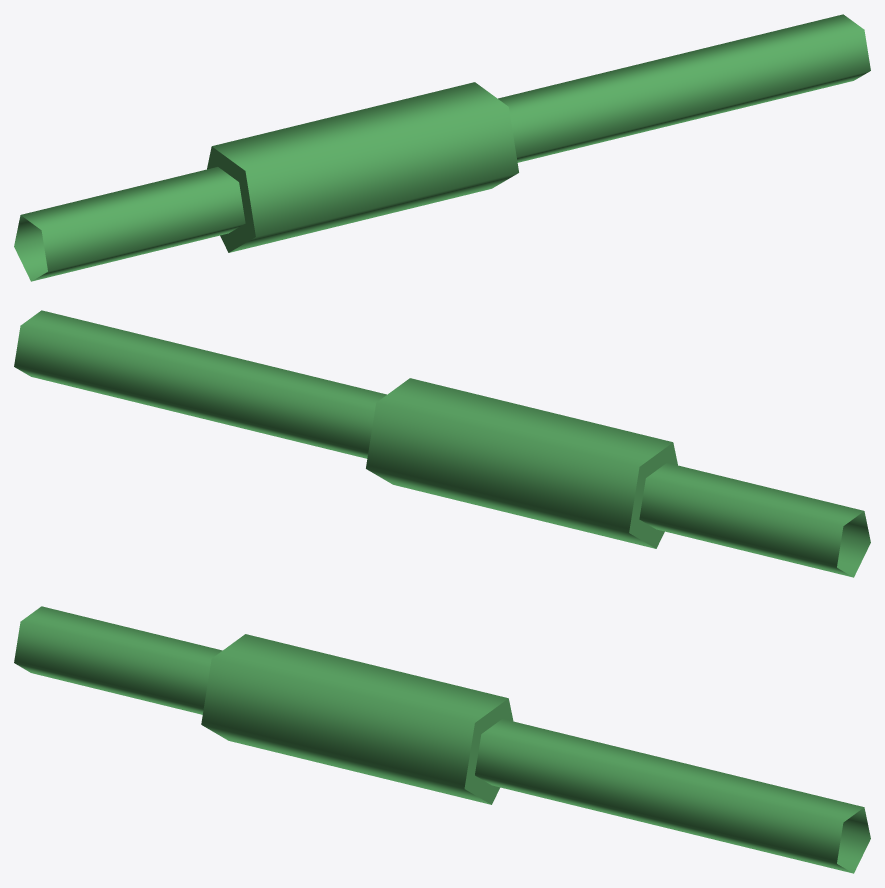
The model's file is PipeC_1.fbx.
3 views of the same model, one above another, from view 1: azimuth 30°, elevation 25°; view 2: azimuth 150°, elevation 25°; view 3: azimuth 330°, elevation 25° (orthographic).
Visible parts, largest first — view 1: PipeC_1; view 2: PipeC_1; view 3: PipeC_1.
Boxes of the visible parts, box(x1,y1,x2,y2) form: PipeC_1: box(14, 14, 870, 281); PipeC_1: box(14, 310, 870, 577); PipeC_1: box(14, 606, 870, 873).
Bounding box in the file's own units: 220 × 24.13 × 25.34.
